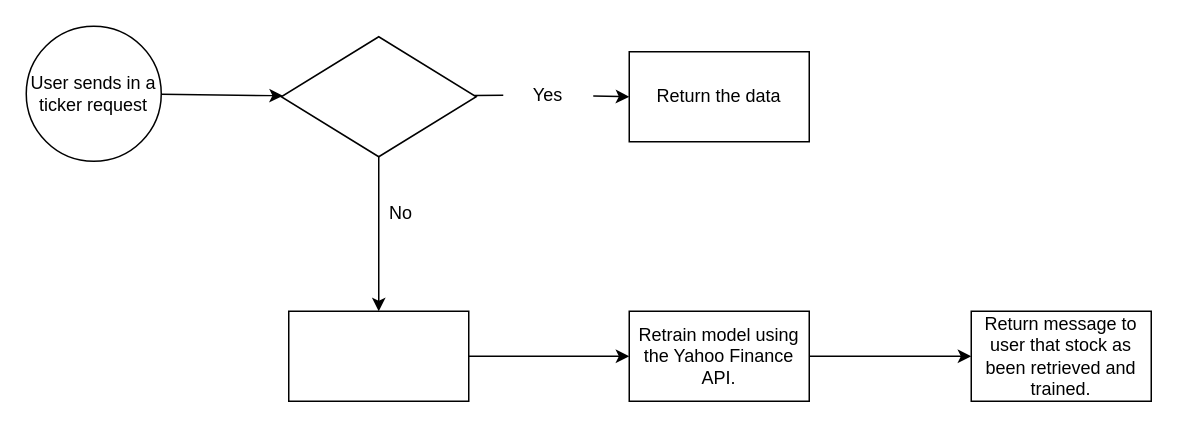
The diagram is 1178 pixels wide and 428 high, and some of its shapes have lost their labels. Here are the shapes that lost their labels. From the top down, the centre of each, then its label:
At (x=378, y=96): "Is ticker existing?".
At (x=378, y=355): "Pull the data from a yahooo finance API into the backend.".
